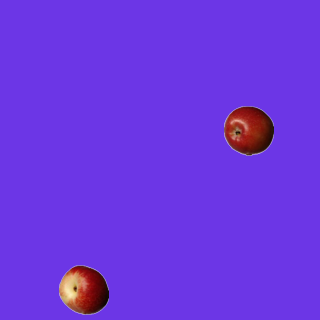Apple Braeburn: (223, 105, 273, 155)
Nectarine: (58, 264, 108, 314)
